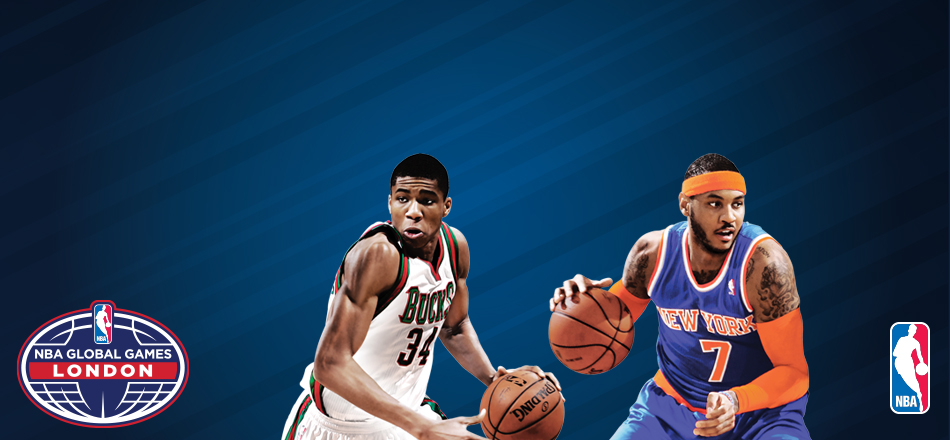basketball: (546, 287, 633, 377), (479, 364, 566, 440)
